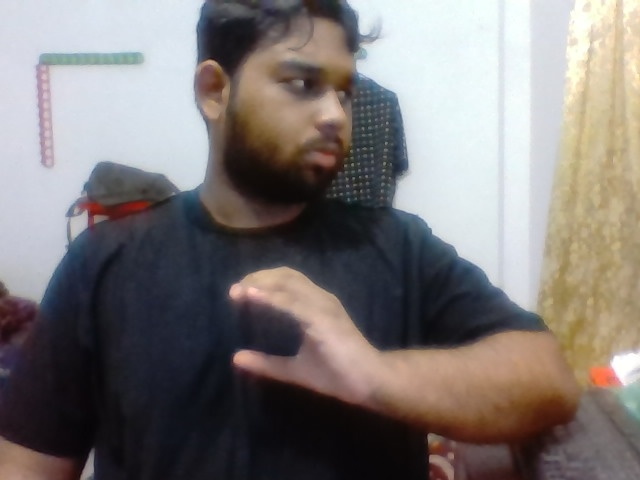C: (210, 258, 392, 418)
